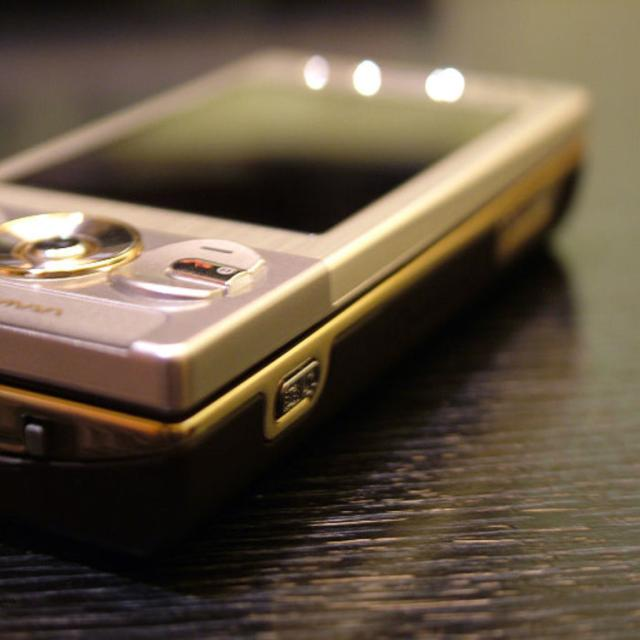Mobile-phone: (0, 45, 595, 462)
